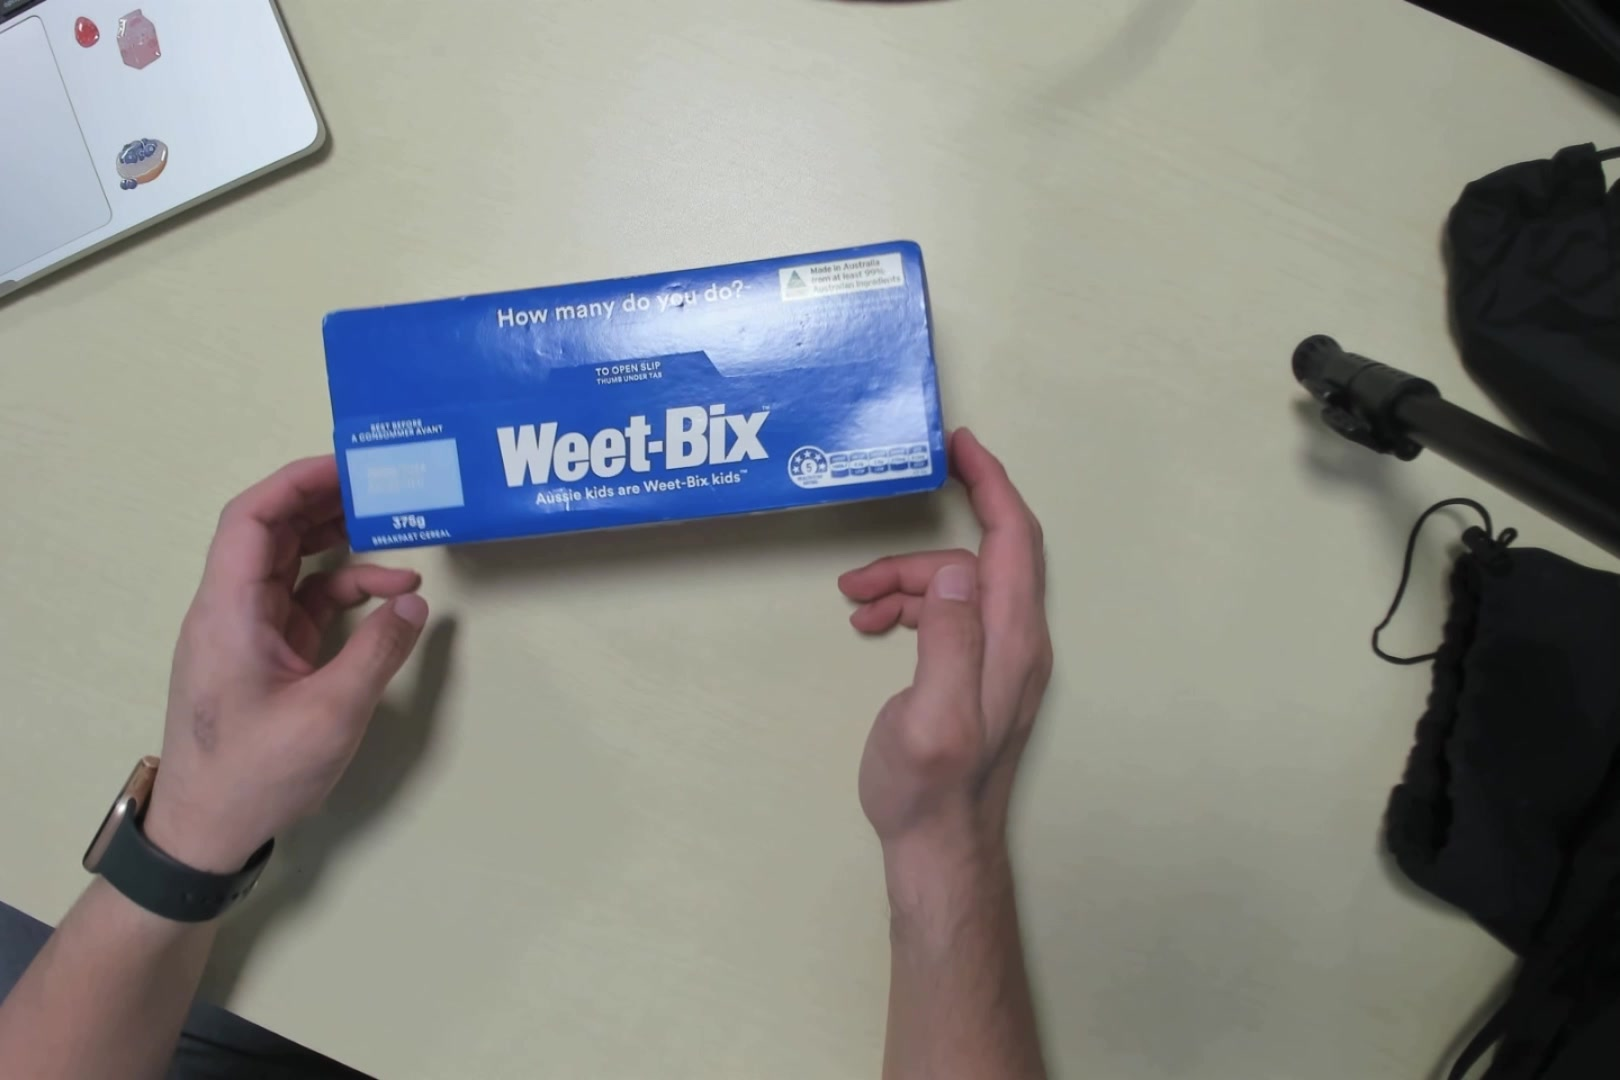BreakfastCereals_300-399g_NonHalal_NonHealthy: (315, 243, 947, 548)
